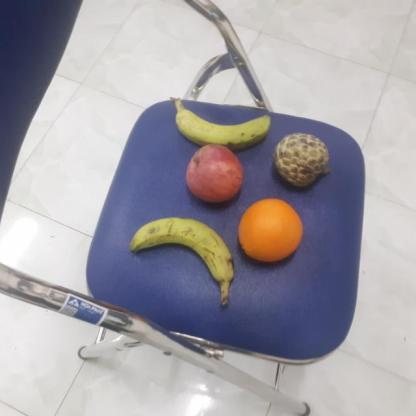annona: (270, 132, 331, 188)
apple: (181, 144, 247, 202)
banana: (129, 215, 238, 285), (169, 99, 273, 149)
orange: (236, 197, 304, 264)
